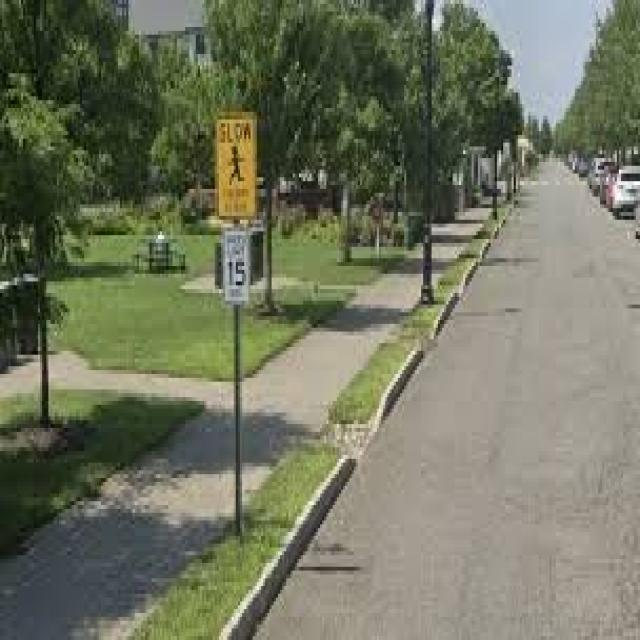speedLimit15: (221, 223, 248, 300)
